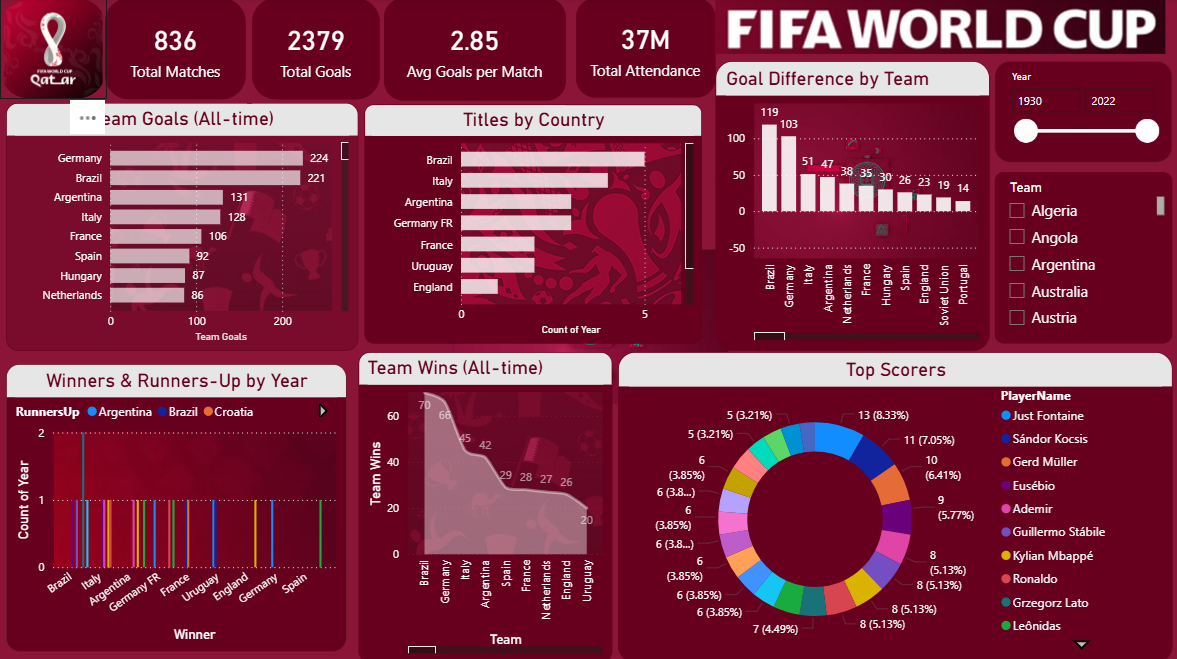

The dashboard page shown, as its layout file describes it:
{"tool":"powerbi","page":{"name":"Page 1","canvas":[1280,720],"ordinal":0},"visuals":[{"type":"card","fields":{"Values":["WorldCupMatches.Total Matches"]},"box":[114.5,0,152.7,109.8],"z":0},{"type":"card","fields":{"Values":["WorldCupMatches.Total Goals"]},"box":[273.6,0,138.4,109.8],"z":1000},{"type":"card","fields":{"Values":["WorldCupMatches.Avg Goals per Match"]},"box":[416.7,0,197.2,111.3],"z":2000},{"type":"card","fields":{"Values":["WorldCupMatches.Total Attendance"]},"box":[625.1,0,151.1,108.2],"z":3000},{"type":"clusteredBarChart","title":"Team Goals (All-time)","fields":{"Category":["Teams.Team"],"Y":["Teams.Team Goals"]},"box":[6.4,114.5,381.7,268.8],"z":4000},{"type":"areaChart","title":"Team Wins (All-time)","fields":{"Category":["Teams.Team"],"Y":["Teams.Team Wins"]},"box":[388.1,383.3,275.2,337.2],"z":5000},{"type":"clusteredColumnChart","title":"Goal Difference by Team","fields":{"Category":["Teams.Team"],"Y":["Teams.Team Goal Difference"]},"box":[776.2,68.4,297.4,314.9],"z":6000},{"type":"pieChart","title":"Top Scorers","fields":{"Y":["Sum(goalScorers.Goals)"],"Category":["goalScorers.PlayerName"]},"box":[669.6,383.3,601.3,337.2],"z":7000},{"type":"clusteredBarChart","title":"Titles by Country","fields":{"Category":["WorldCups.Winner"],"Y":["CountNonNull(WorldCups.Year)"]},"box":[394.5,116.1,365.8,259.3],"z":8000},{"type":"clusteredColumnChart","title":"Winners & Runners-Up by Year","fields":{"Category":["WorldCups.Winner"],"Y":["CountNonNull(WorldCups.Year)"],"Series":["WorldCups.RunnersUp"]},"box":[6.4,397.7,369,311.8],"z":9000},{"type":"slicer","fields":{"Values":["WorldCups.Year"]},"box":[1078.4,68.4,192.5,109.8],"z":10000},{"type":"slicer","fields":{"Values":["Teams.Team"]},"box":[1078.4,189.3,192.5,186.1],"z":11000},{"type":"image","box":[0,0,116.1,109.8],"z":12000},{"type":"image","box":[760.3,0,520.1,60.4],"z":13000}]}

Visuals, with their boxes in screenshot pixels (x1, y1, x2, y2), scaled from the page's 1280x720 canvas onto the 1177x659 screenshot:
card - WorldCupMatches.Total Matches: Rect(105, 0, 246, 100)
card - WorldCupMatches.Total Goals: Rect(252, 0, 379, 100)
card - WorldCupMatches.Avg Goals per Match: Rect(383, 0, 565, 102)
card - WorldCupMatches.Total Attendance: Rect(575, 0, 714, 99)
"Team Goals (All-time)" clusteredBarChart: Rect(6, 105, 357, 351)
"Team Wins (All-time)" areaChart: Rect(357, 351, 610, 658)
"Goal Difference by Team" clusteredColumnChart: Rect(714, 63, 987, 351)
"Top Scorers" pieChart: Rect(616, 351, 1169, 658)
"Titles by Country" clusteredBarChart: Rect(363, 106, 699, 344)
"Winners & Runners-Up by Year" clusteredColumnChart: Rect(6, 364, 345, 649)
slicer - WorldCups.Year: Rect(992, 63, 1169, 163)
slicer - Teams.Team: Rect(992, 173, 1169, 344)
image: Rect(0, 0, 107, 100)
image: Rect(699, 0, 1176, 55)
